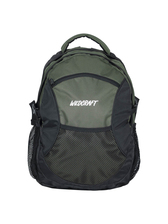bag: (22, 32, 143, 191)
